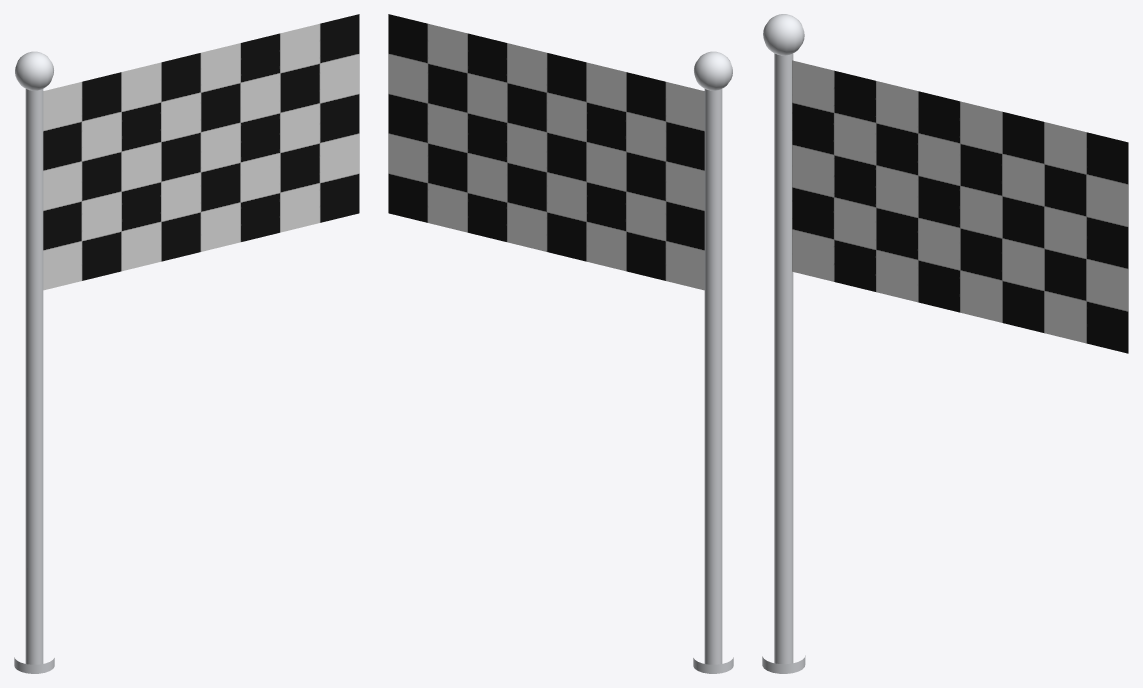
The model's file is flag.glb.
The picture shows the model from 3 angles, left to right: view 1: azimuth 30°, elevation 25°; view 2: azimuth 150°, elevation 25°; view 3: azimuth 330°, elevation 25°; orthographic projection. The views are drawn at different scales.
Parts seen in each view (by area): view 1: cloth, pole, cap; view 2: cloth, pole, cap; view 3: cloth, pole, cap.
Boxes of the visible parts, left/top/right/bottom form: cloth: left=43, top=14, right=359, bottom=290; pole: left=25, top=89, right=43, bottom=664; cap: left=15, top=51, right=53, bottom=90; cloth: left=388, top=14, right=704, bottom=290; pole: left=704, top=89, right=722, bottom=664; cap: left=694, top=51, right=732, bottom=90; cloth: left=792, top=60, right=1128, bottom=353; pole: left=774, top=53, right=793, bottom=664; cap: left=763, top=14, right=804, bottom=55.
Size of the model in its own units: 9.72 by 16.58 by 1.
Materials: 2 (1 with a texture image).
